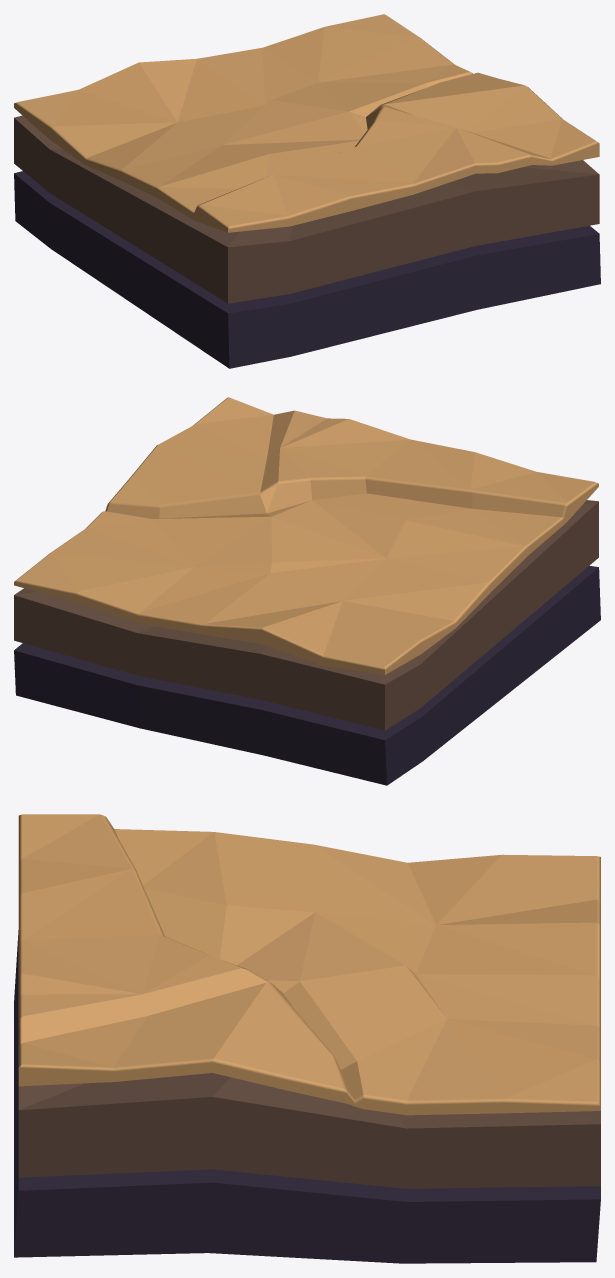
The model's file is ground_04.glb.
3 renders of one model, top to bottom at view 1: azimuth 30°, elevation 25°; view 2: azimuth 150°, elevation 25°; view 3: azimuth 270°, elevation 25°, orthographic. The views are drawn at different scales.
Visible parts, largest first — view 1: Plane.006; view 2: Plane.006; view 3: Plane.006.
Boxes of the visible parts, bbox=[...] form: Plane.006: bbox=[14, 14, 600, 368]; Plane.006: bbox=[14, 397, 600, 785]; Plane.006: bbox=[14, 814, 600, 1263].
Bounding box in the file's own units: 40.02 × 15.95 × 40.23.
1 material, 1 textured.
